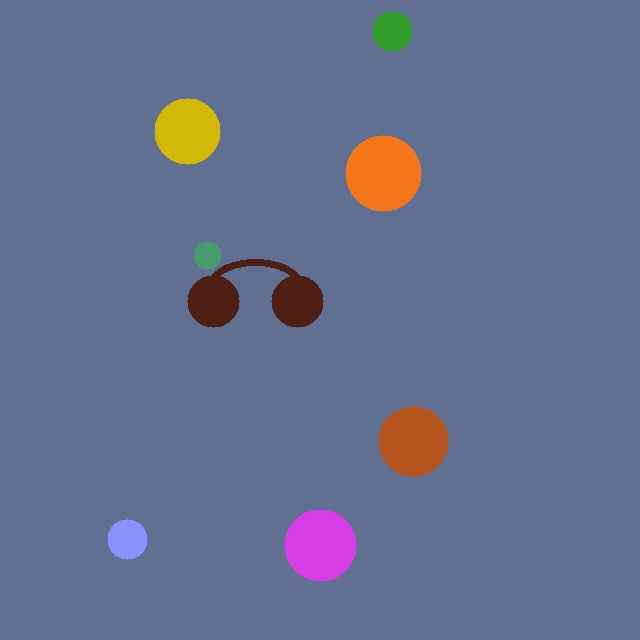over_ear: (183, 246, 327, 331)
